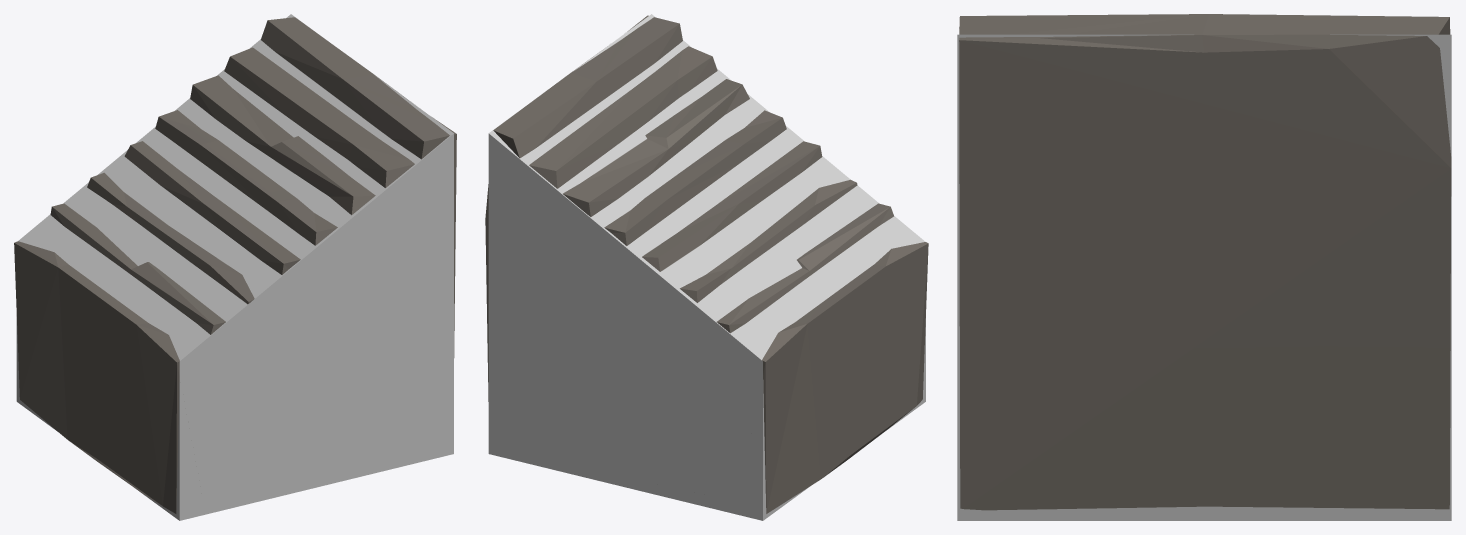
Rendered from SM_Env_Rock_Stairs_01.fbx.
3 views of the same model, side by side, from view 1: azimuth 30°, elevation 25°; view 2: azimuth 150°, elevation 25°; view 3: azimuth 270°, elevation 25° (orthographic). The views are drawn at different scales.
Parts seen in each view (by area): view 1: SM_Env_Rock_Stairs_01_ConvexHulls, SM_Env_Rock_Stairs_01; view 2: SM_Env_Rock_Stairs_01_ConvexHulls, SM_Env_Rock_Stairs_01; view 3: SM_Env_Rock_Stairs_01, SM_Env_Rock_Stairs_01_ConvexHulls.
Part boxes in pixels (<box>): SM_Env_Rock_Stairs_01_ConvexHulls: <box>16,14,453,520</box>; SM_Env_Rock_Stairs_01: <box>14,17,456,513</box>; SM_Env_Rock_Stairs_01_ConvexHulls: <box>488,14,925,520</box>; SM_Env_Rock_Stairs_01: <box>485,15,928,513</box>; SM_Env_Rock_Stairs_01: <box>959,14,1451,510</box>; SM_Env_Rock_Stairs_01_ConvexHulls: <box>957,34,1451,520</box>.
Bounding box in the file's own units: 260 × 261 × 284.
Materials: 2 (1 with a texture image).
